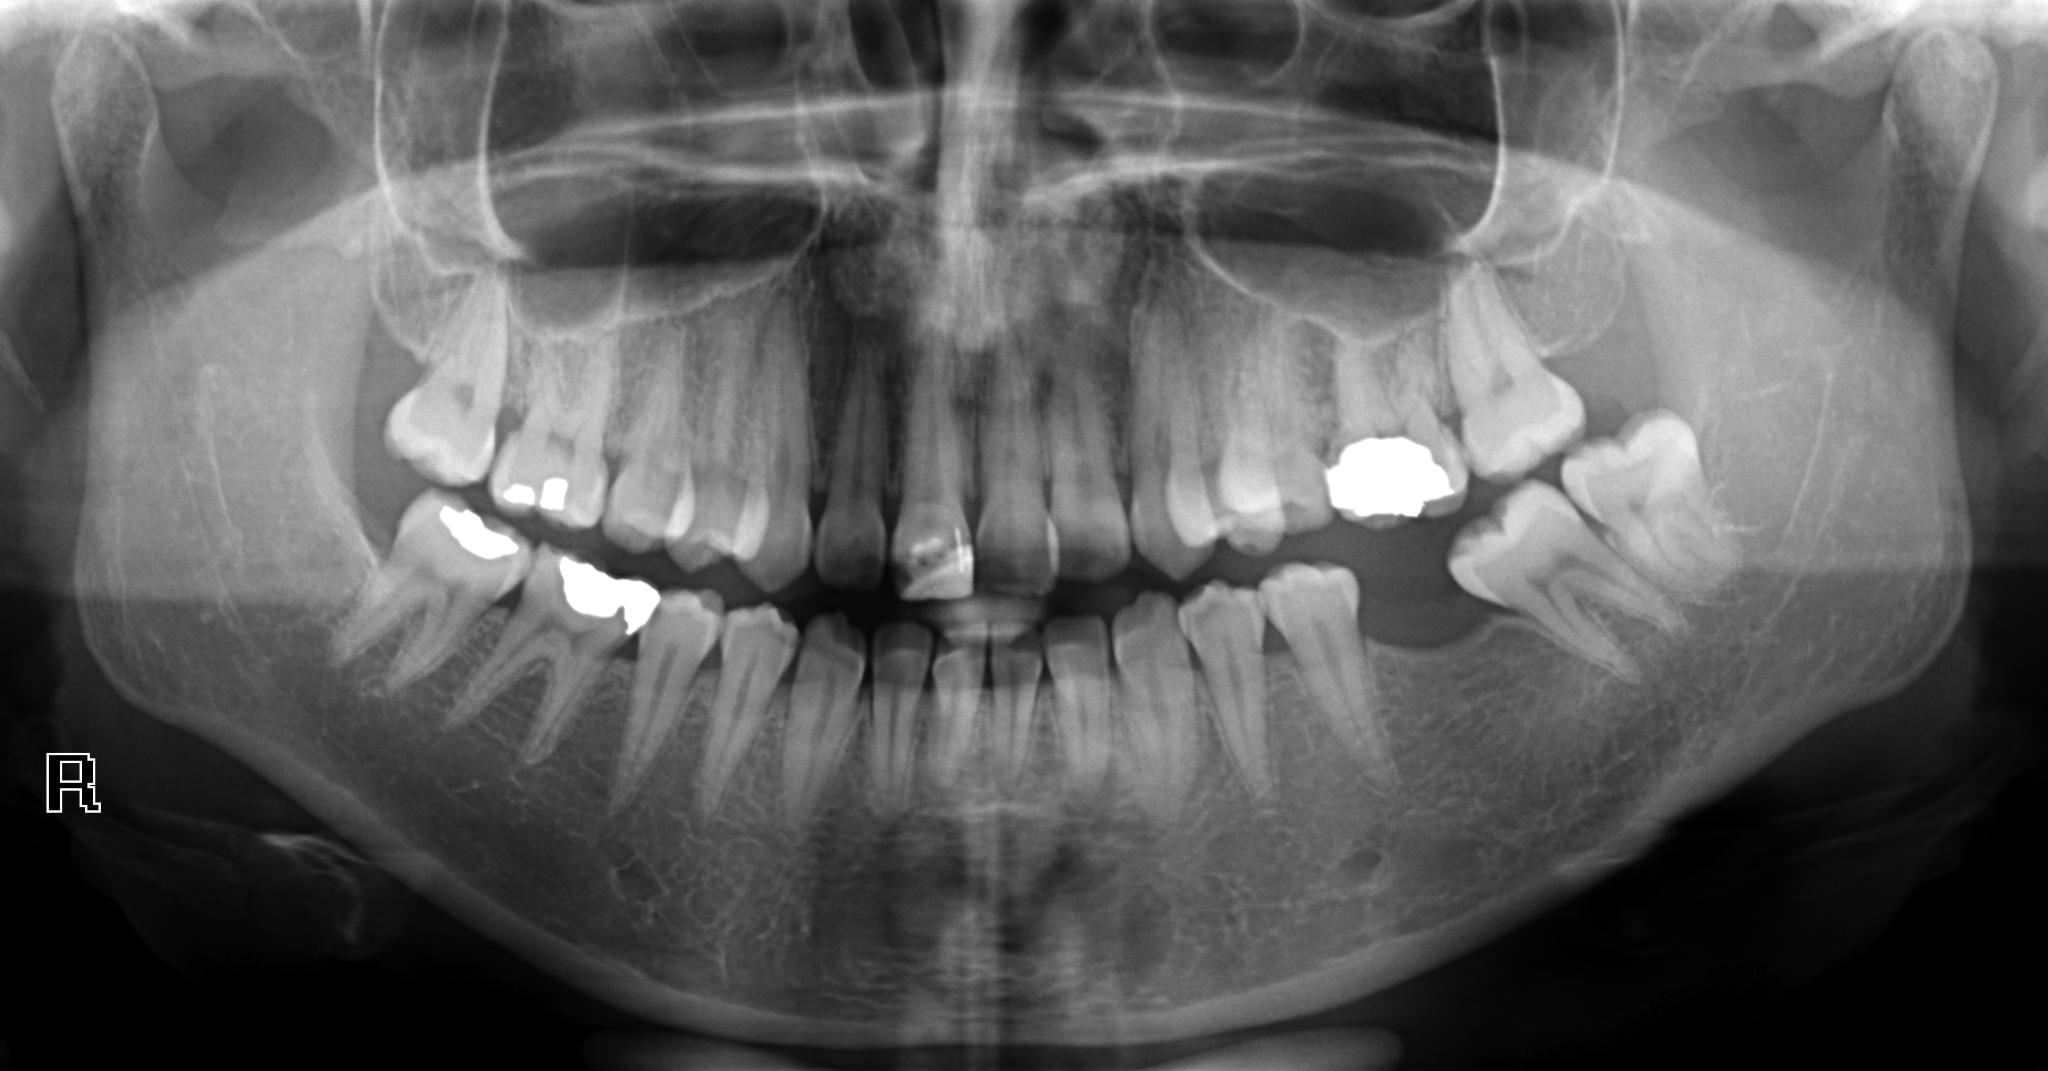Cavity: (780, 608, 868, 806)
Fillings: (335, 490, 532, 700), (486, 287, 622, 527), (1323, 311, 1467, 527), (45, 753, 98, 812)
Impacted Tooth: (1448, 475, 1688, 677)
